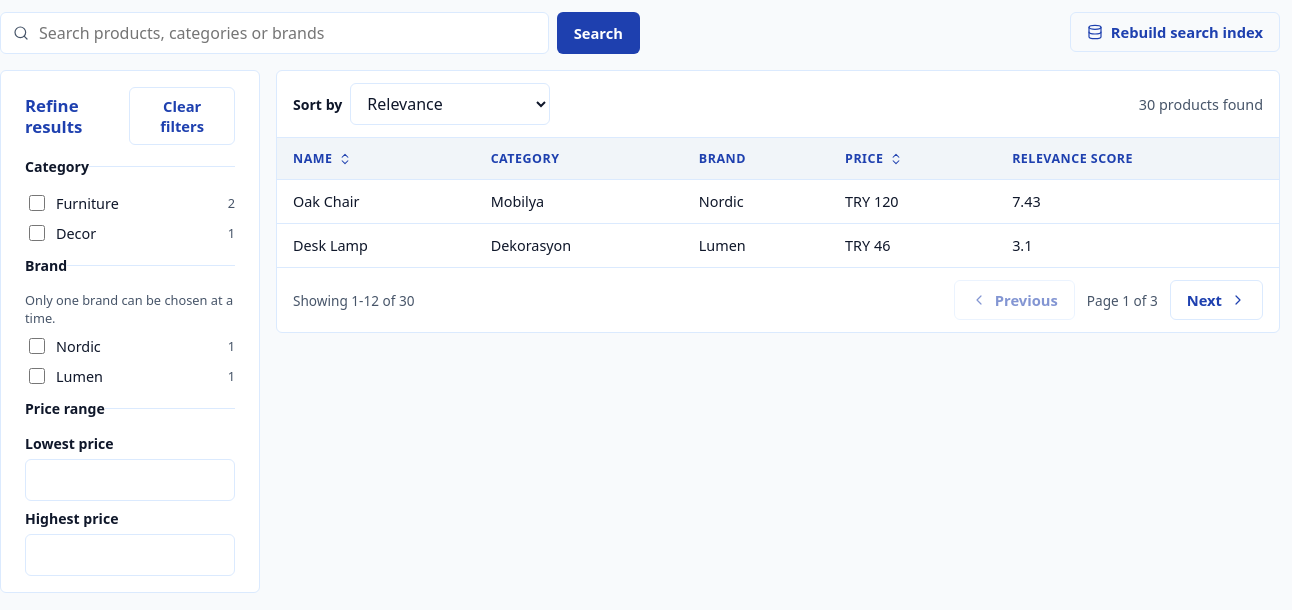
Test: the next page is requested with the page number
Expected: the text "Oak Chair" is shown, left=277, top=180, right=475, bottom=224
Step 1. Click the button "Next" → (1216, 300), box left=1170, top=280, right=1263, bottom=320
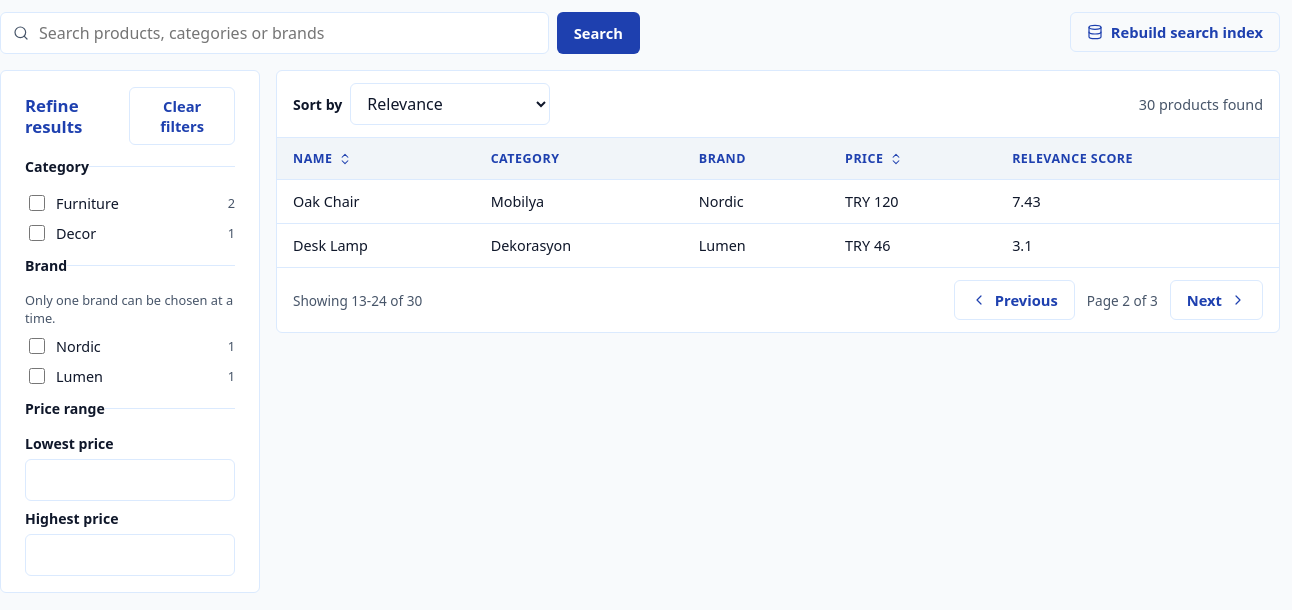
Result: the text "Page 2 of 3" is shown at left=1087, top=290, right=1158, bottom=310
